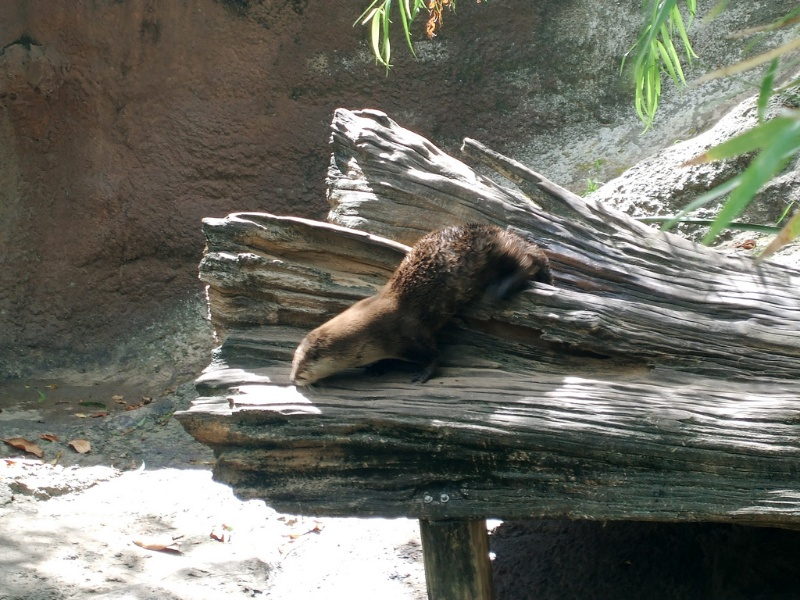minkish: (283, 222, 558, 401)
